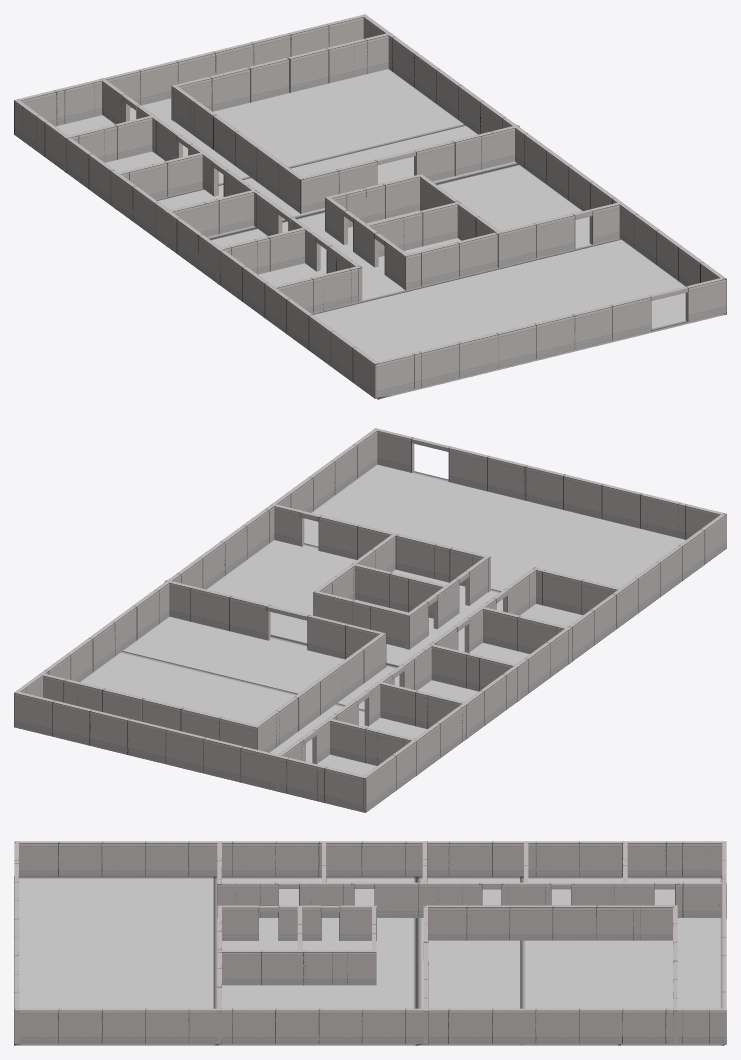
The model's file is Mapa sem Teto.fbx.
3 renders of one model, top to bottom at view 1: azimuth 30°, elevation 25°; view 2: azimuth 150°, elevation 25°; view 3: azimuth 270°, elevation 25°, orthographic.
Visible parts, largest first — view 1: Chão, Chão.003, Chão.001, Chão.002, Parede, Parede.094, Parede.095, Parede.057, Parede.002, Parede.053, Parede.093, Parede.049 (+86 smaller); view 2: Chão, Chão.001, Chão.002, Chão.003, Parede.101, Parede.029, Parede.023, Parede.002, Parede.024, Parede.050, Parede.003, Parede.021 (+84 smaller); view 3: Chão, Chão.003, Chão.001, Chão.002, Parede.016, Parede.089, Parede.032, Parede.044, Parede.006, Parede.012, Parede.046, Parede.008 (+52 smaller).
Boxes of the visible parts, x1,y1,x2,y2 form: Chão: (313, 239, 726, 399); Chão.003: (55, 69, 465, 200); Chão.001: (210, 164, 621, 314); Chão.002: (157, 92, 517, 239); Parede: (685, 278, 726, 321); Parede.094: (248, 57, 289, 102); Parede.095: (288, 48, 328, 92); Parede.057: (535, 213, 575, 258); Parede.002: (610, 295, 651, 340); Parede.053: (375, 353, 414, 398); Parede.093: (210, 67, 250, 111); Parede.049: (534, 314, 575, 358); Chão: (304, 464, 685, 591); Chão.001: (207, 540, 582, 666); Chão.002: (123, 616, 478, 709); Chão.003: (80, 651, 427, 775); Parede.101: (229, 596, 270, 640); Parede.029: (324, 767, 365, 812); Parede.023: (127, 719, 168, 763); Parede.002: (448, 446, 489, 491); Parede.024: (89, 709, 129, 754); Parede.050: (601, 484, 642, 528); Parede.003: (487, 456, 527, 500); Parede.021: (14, 692, 53, 736); Chão: (14, 876, 217, 1045); Chão.003: (520, 876, 724, 1045); Chão.001: (213, 876, 417, 1045); Chão.002: (417, 876, 620, 1045); Parede.016: (448, 1008, 492, 1043); Parede.089: (552, 905, 596, 940); Parede.032: (361, 841, 405, 876); Parede.044: (101, 841, 145, 876); Parede.006: (145, 1008, 189, 1043); Parede.012: (535, 1008, 579, 1043); Parede.046: (58, 841, 102, 876); Parede.008: (275, 1008, 319, 1043).
Bounding box in the file's own units: 4089 × 397 × 7264.
